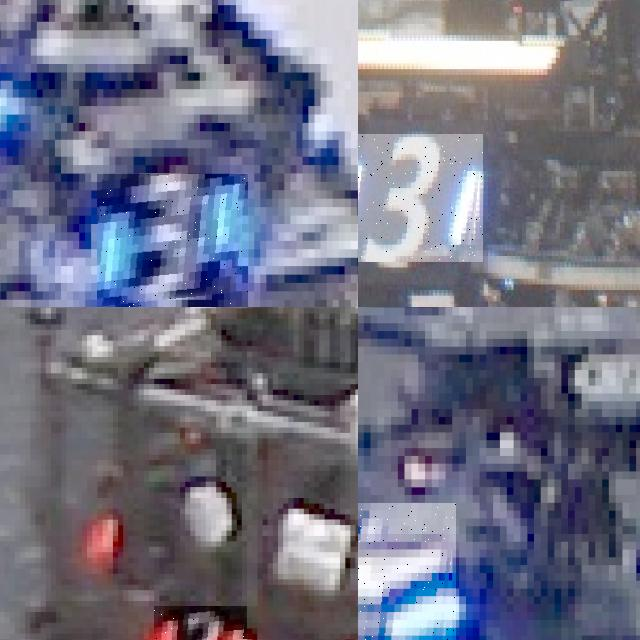B3: (97, 173, 248, 307), (358, 134, 483, 261)
B4: (358, 502, 456, 640)
R2: (154, 606, 247, 640)
